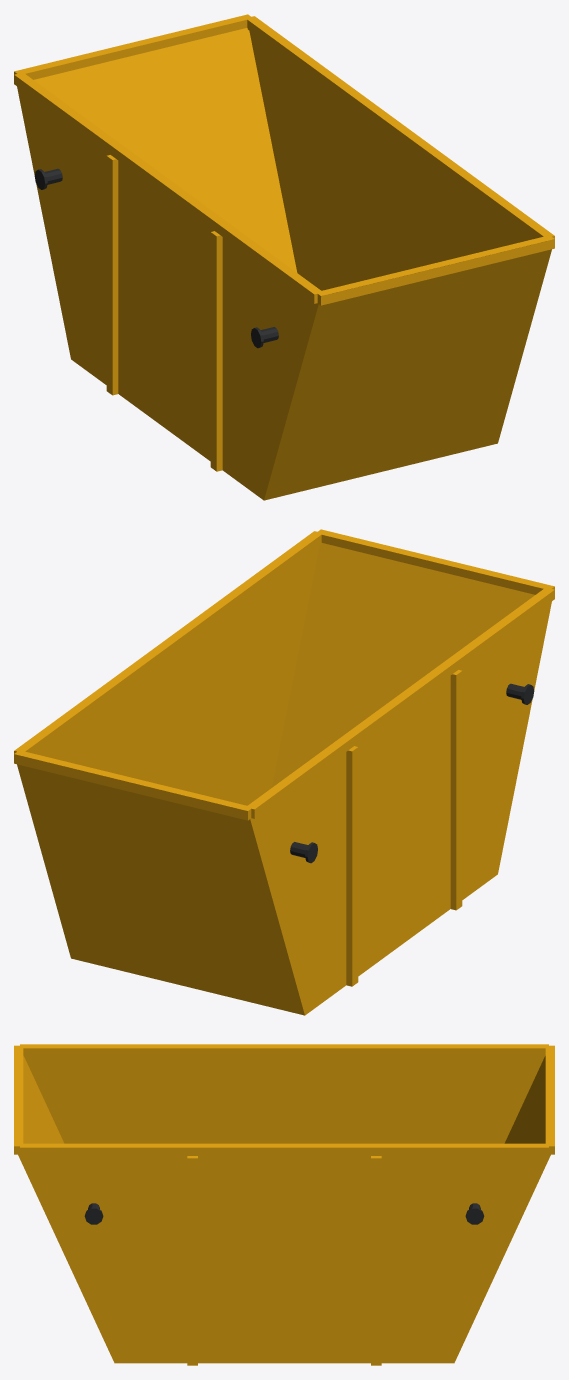
Rendered from plant.skip.14yd.glb.
3 views of the same model, one above another, from view 1: azimuth 30°, elevation 25°; view 2: azimuth 150°, elevation 25°; view 3: azimuth 270°, elevation 25° (orthographic). The views are drawn at different scales.
Visible parts, largest first — view 1: main__plant_yellow, main__steel_dark; view 2: main__plant_yellow, main__steel_dark; view 3: main__plant_yellow, main__steel_dark.
Part boxes in pixels (x1,y1,x2,y2): main__plant_yellow: (14, 14, 554, 500); main__steel_dark: (34, 168, 278, 348); main__plant_yellow: (14, 529, 554, 1015); main__steel_dark: (290, 683, 534, 863); main__plant_yellow: (14, 1044, 554, 1365); main__steel_dark: (84, 1203, 484, 1224).
Size of the model in its own units: 2.1 by 1.85 by 4.09.
